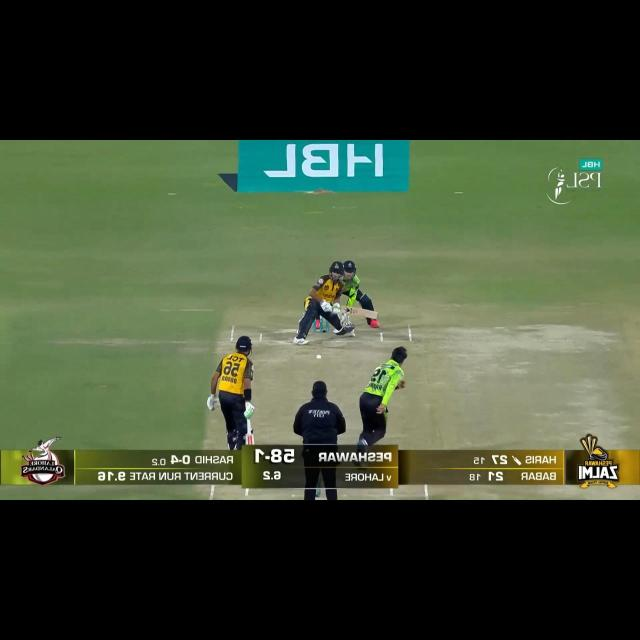bat: (336, 304, 380, 321), (240, 432, 257, 446)
toe: (366, 309, 381, 320)
